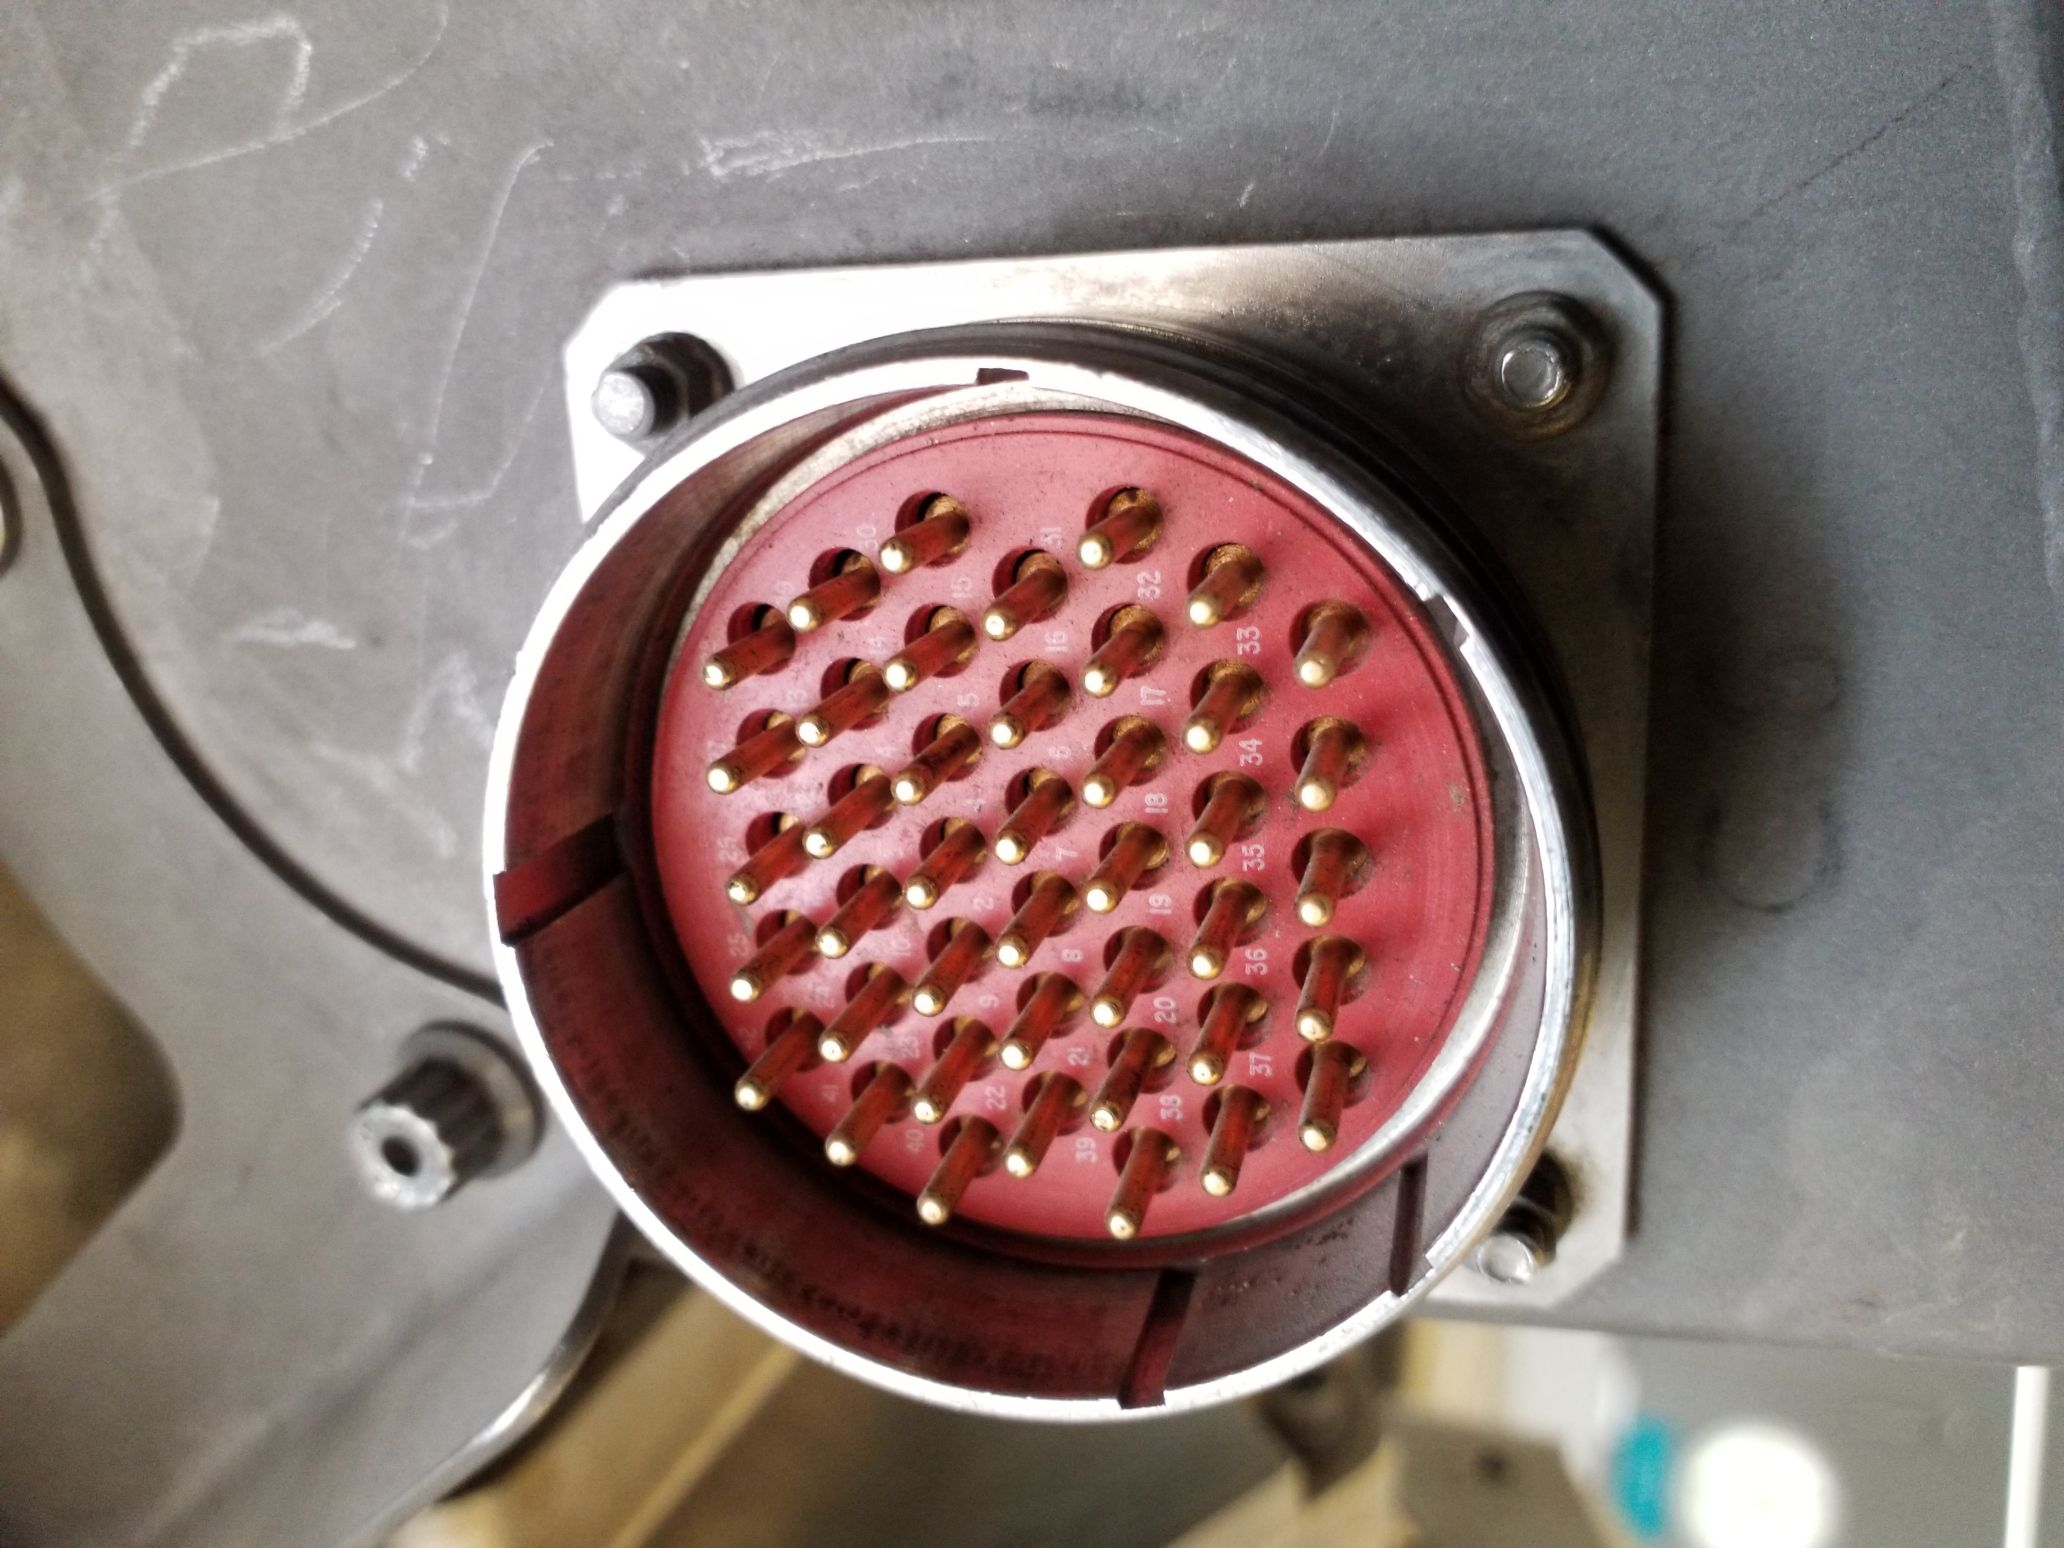outlet: (478, 311, 1614, 1428)
